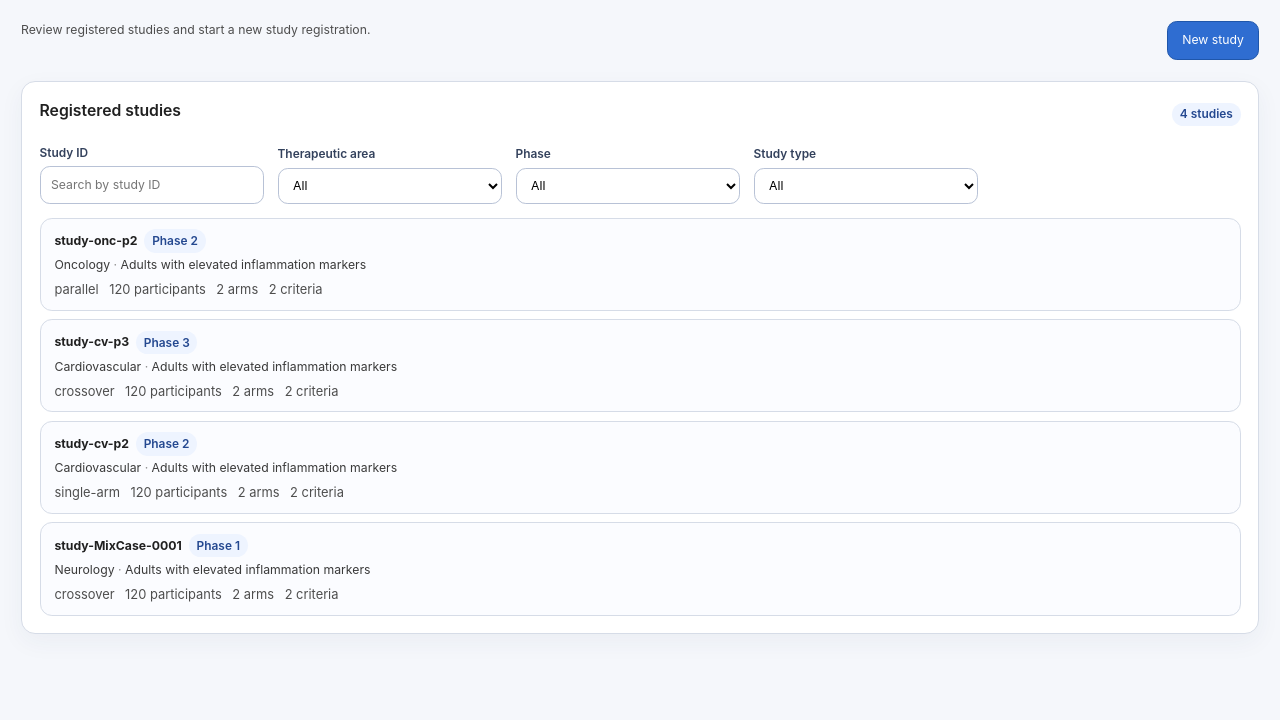
Test: AllStudiesPage filter bar › shows Clear filters only when active and resets all filters
Check: the button "Clear filters" is not shown
Type "x" into the search field labelled "Study ID" at coordinates (152, 185), box [40,166,264,204]
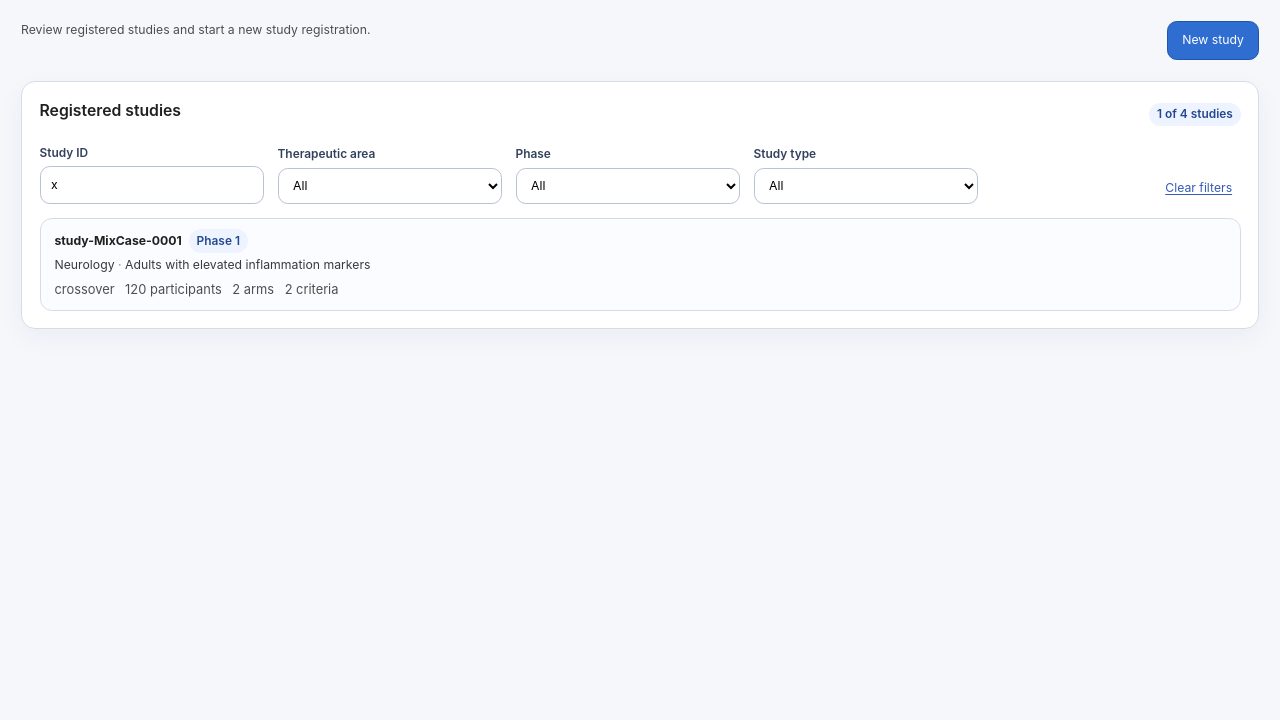
Check: the button "Clear filters" is shown
Click the button "Clear filters" at coordinates (1199, 188), box [1157,173,1240,204]
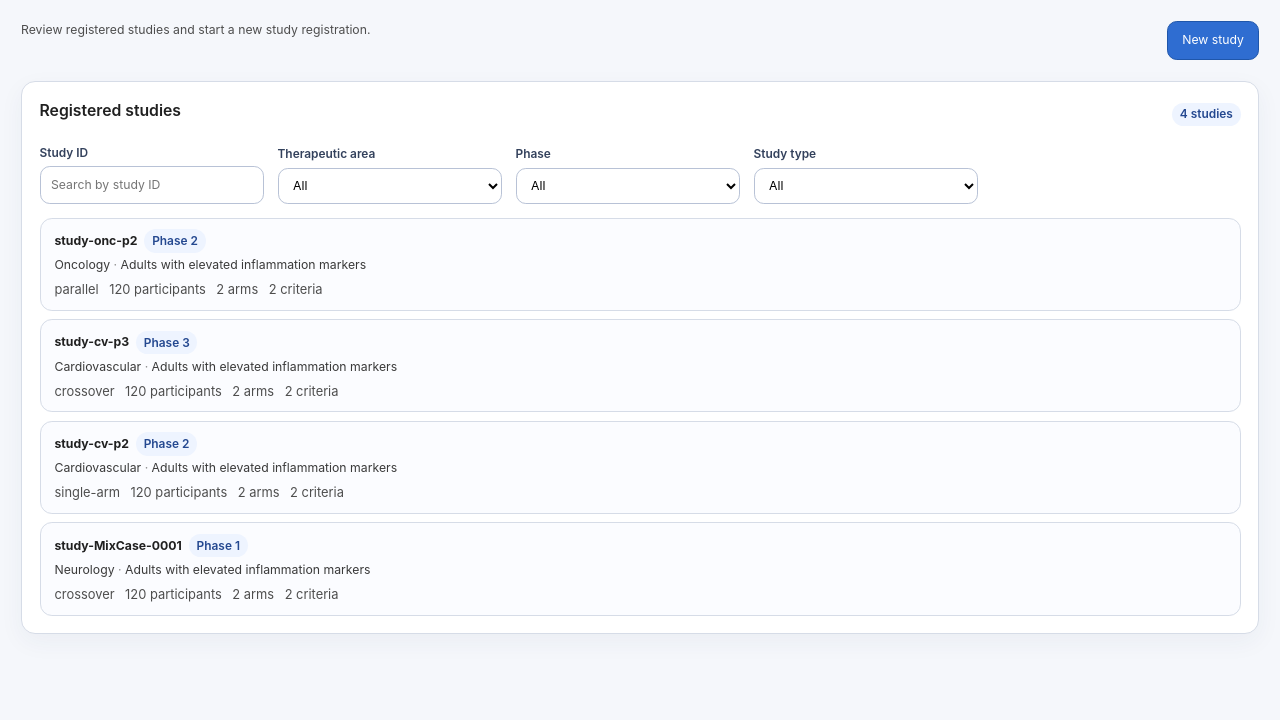
Check: the dropdown labelled "Therapeutic area" shows "All", box [278,168,502,204]
Check: the button "Clear filters" is gone
Check: the search field labelled "Study ID" is empty, box [40,166,264,204]
